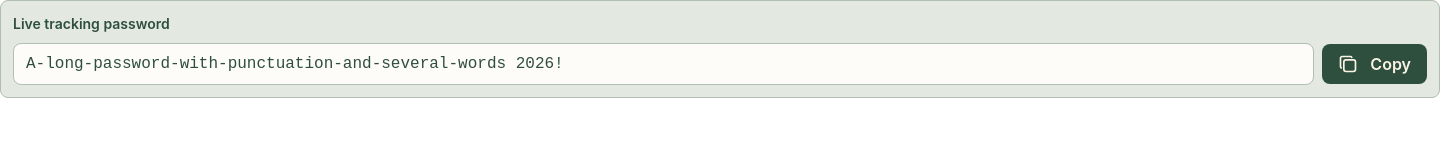
Scenario: selects and copies the complete password even when its display is truncated
Double-click the text "A-long-password-with-punctuation-and-several-words 2026!".
double_click(664, 64)  # box [13,43,1314,85]
Click the button "Copy".
click(1375, 64)  # box [1322,44,1427,84]
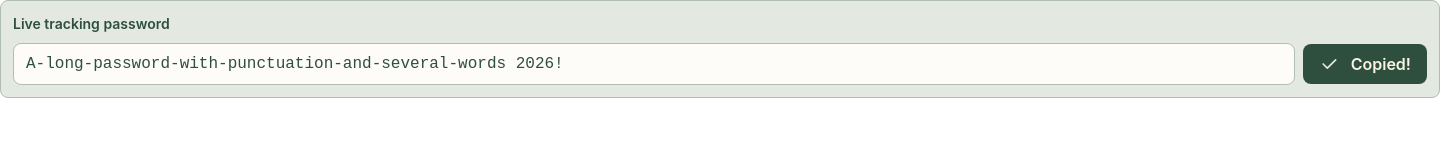
Now the button "Copied!" is shown, box [1303,44,1427,84]
